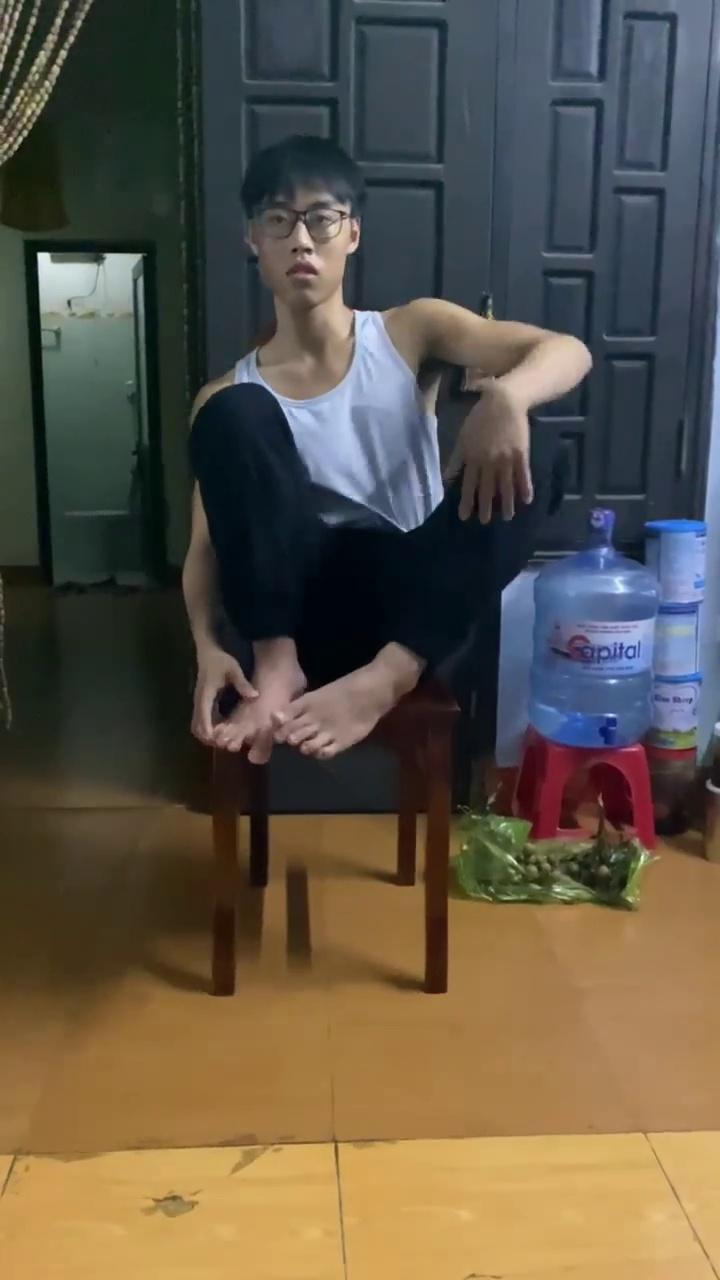BadPosture: (192, 383, 563, 687)
